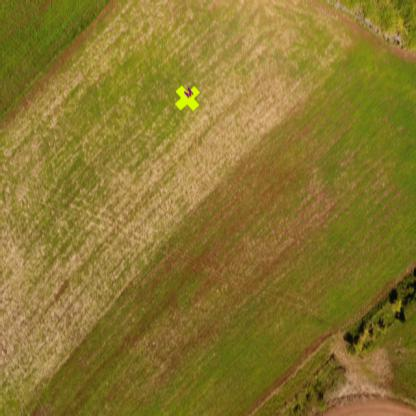M: (183, 86, 194, 99)
plus: (174, 85, 201, 113)
